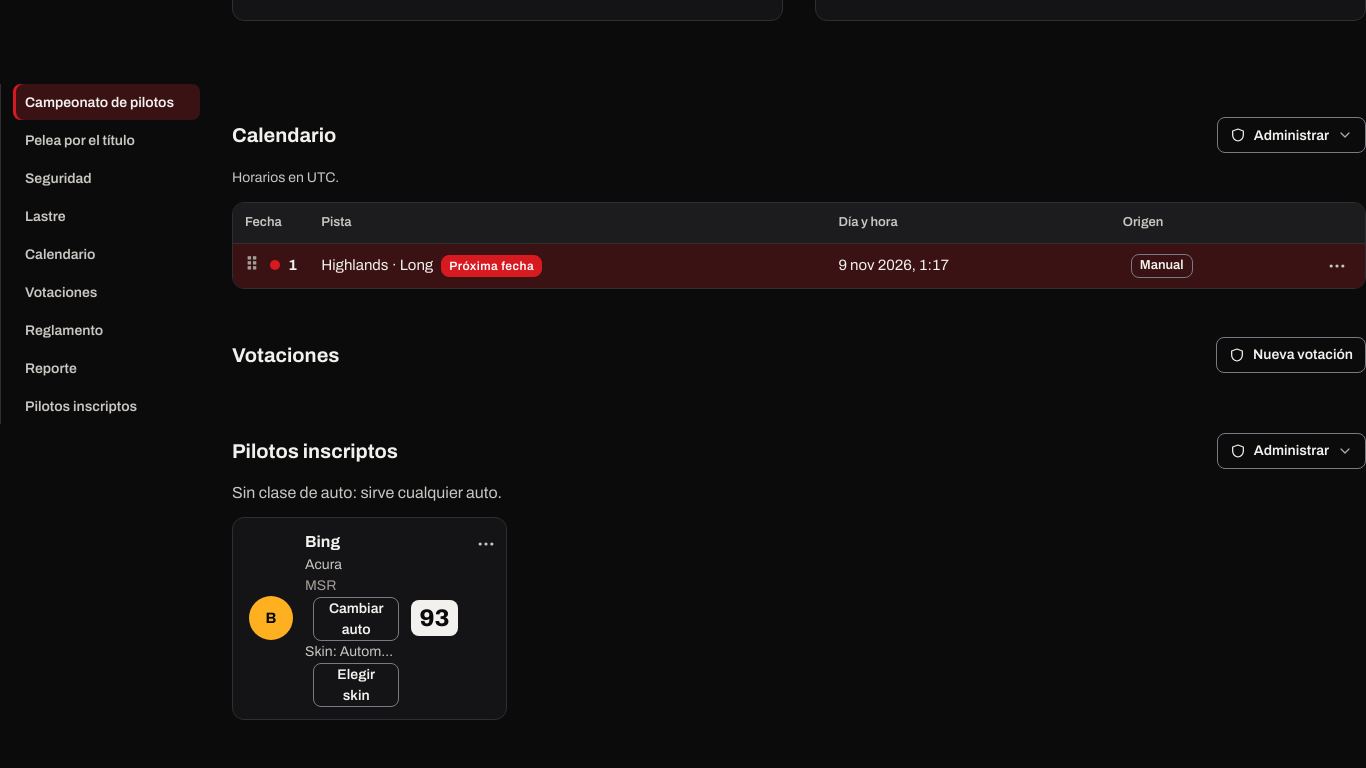
Test: SeasonPage › shows the API error when a number is taken
(page scrolled)
Click the 2nd button "Administrar" at (1291, 451), box 1217,433 -> 1365,469
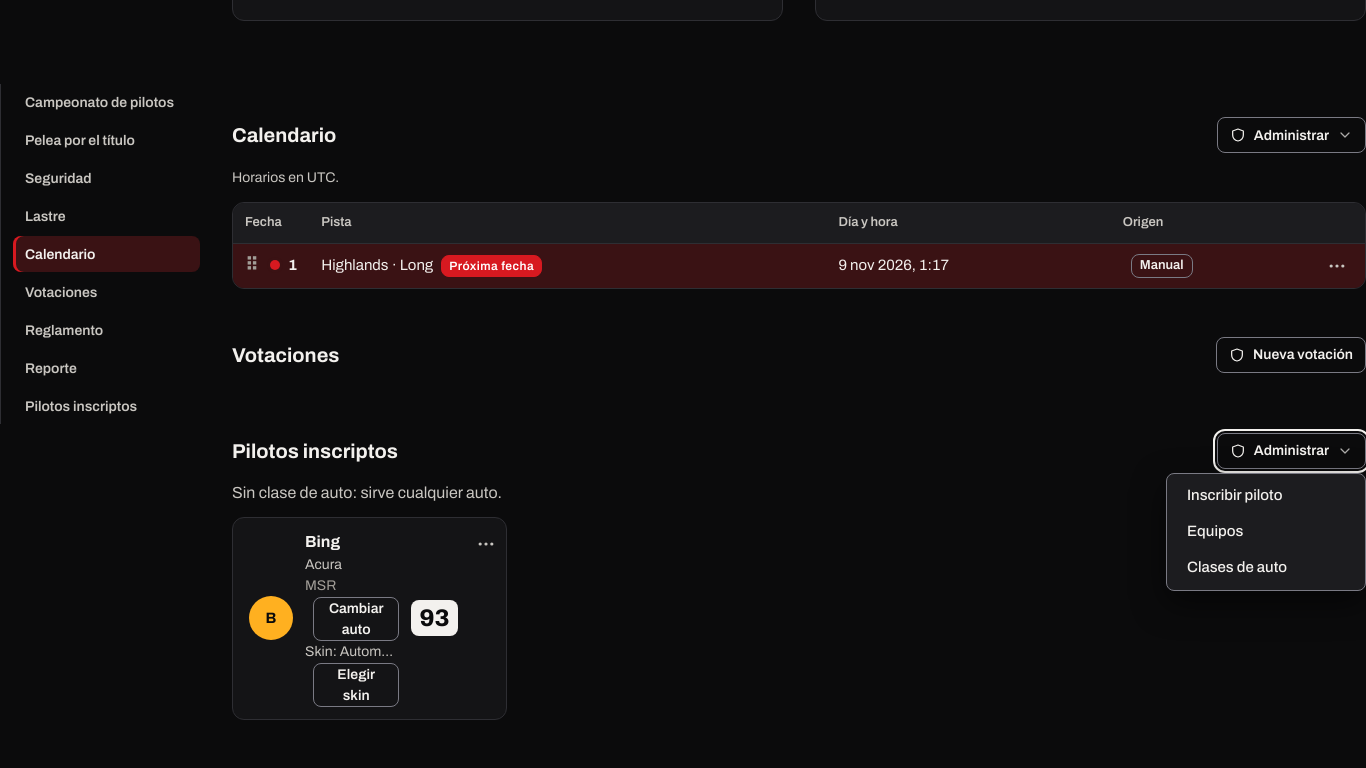
Click the button "Inscribir piloto" at (1266, 496), box 1171,478 -> 1361,514
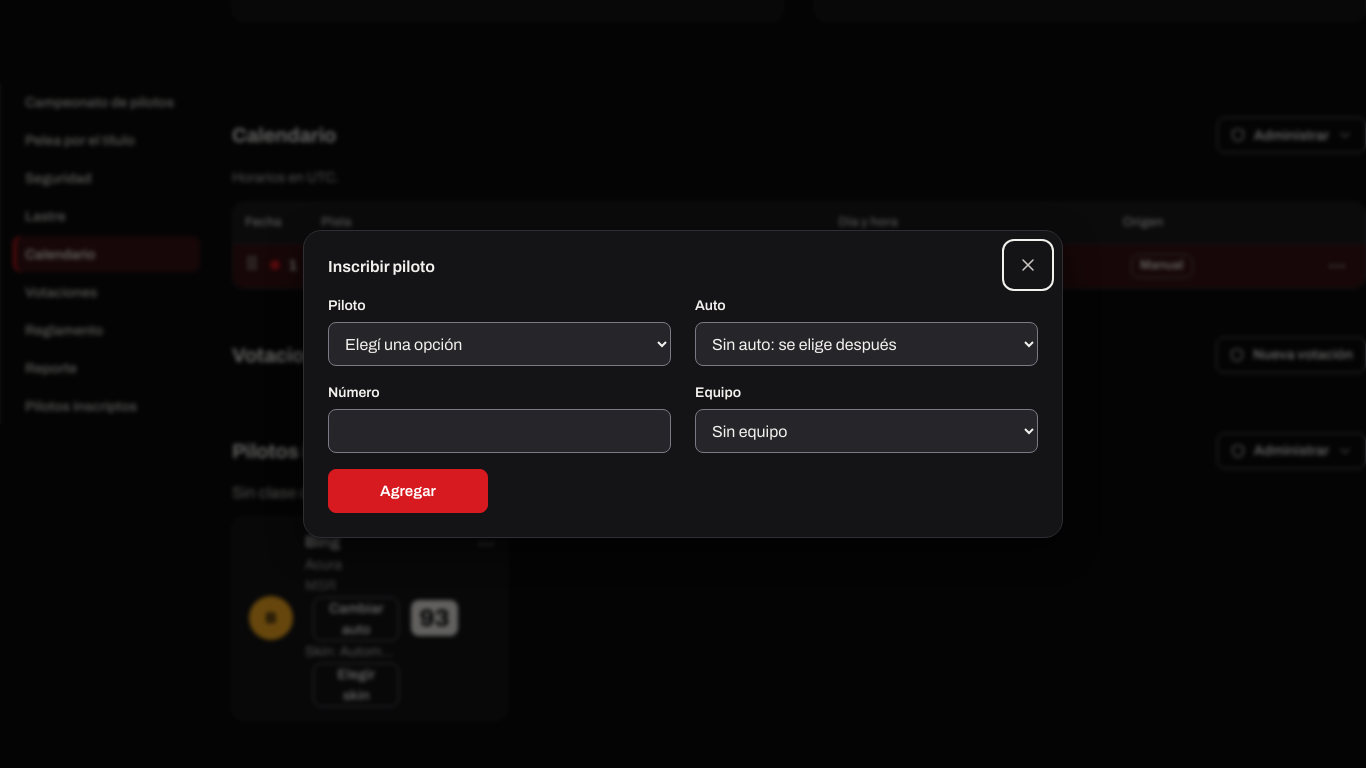
Select "Bing" in the dropdown labelled "Piloto" at (500, 344), box 328,322 -> 671,366
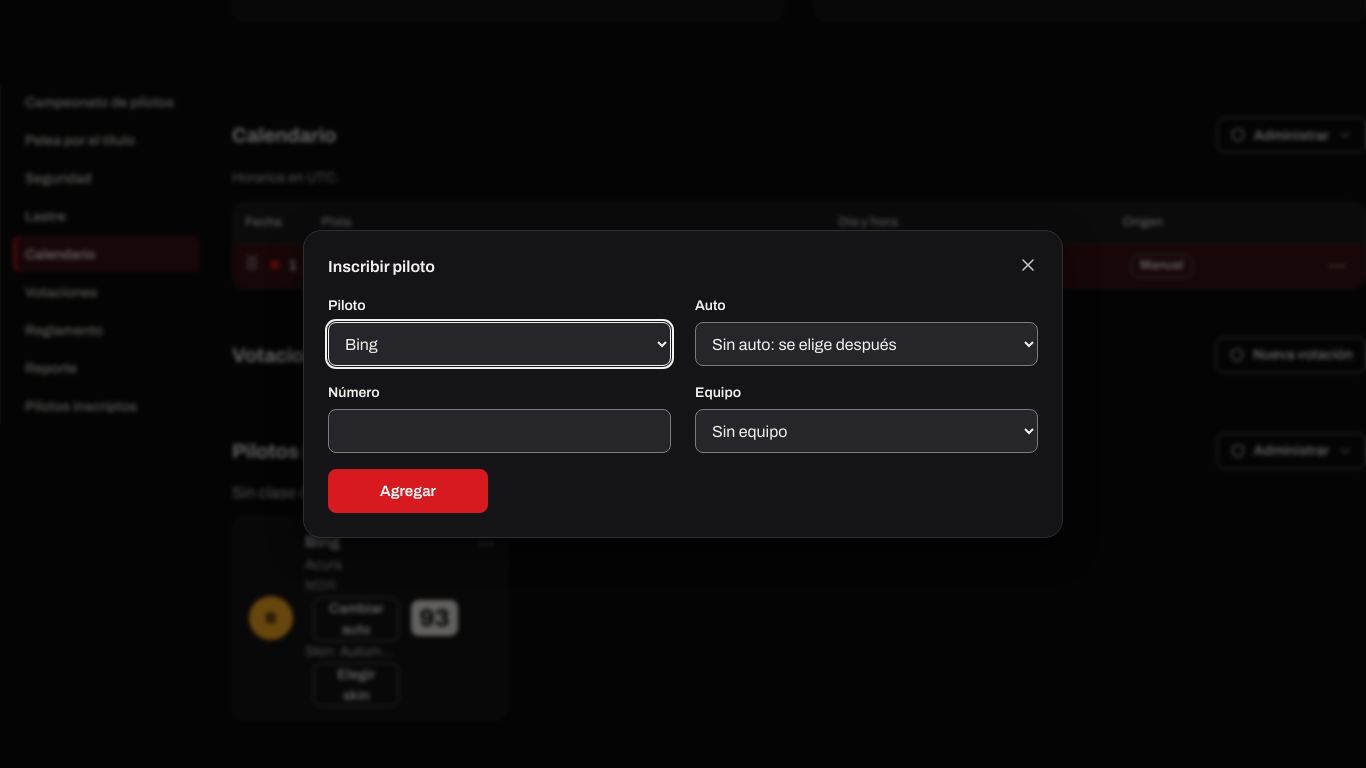
Select "Acura" in the dropdown labelled "Auto" at (866, 344), box 695,322 -> 1038,366
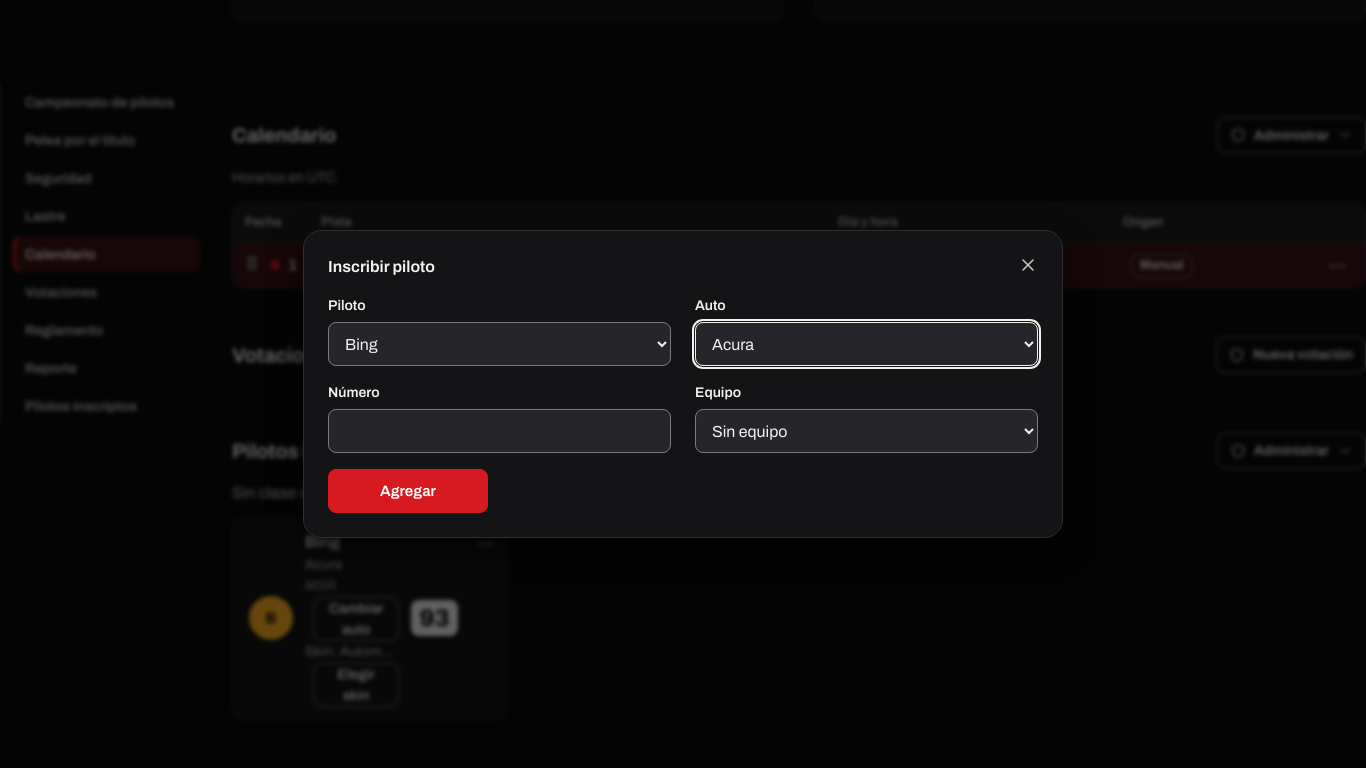
Type "93" into the number field labelled "Número" at (500, 431), box 328,409 -> 671,453
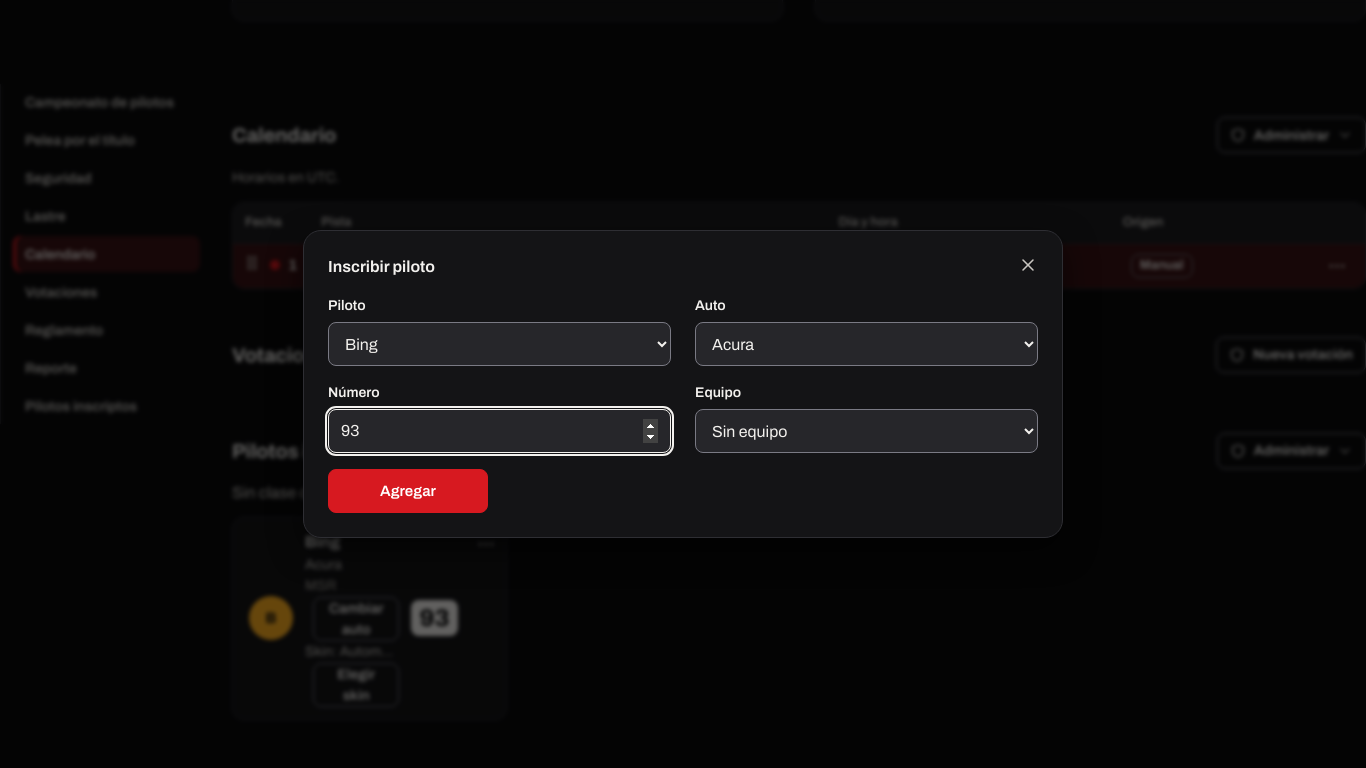
Click the button "Agregar" at (408, 491), box 328,469 -> 488,513
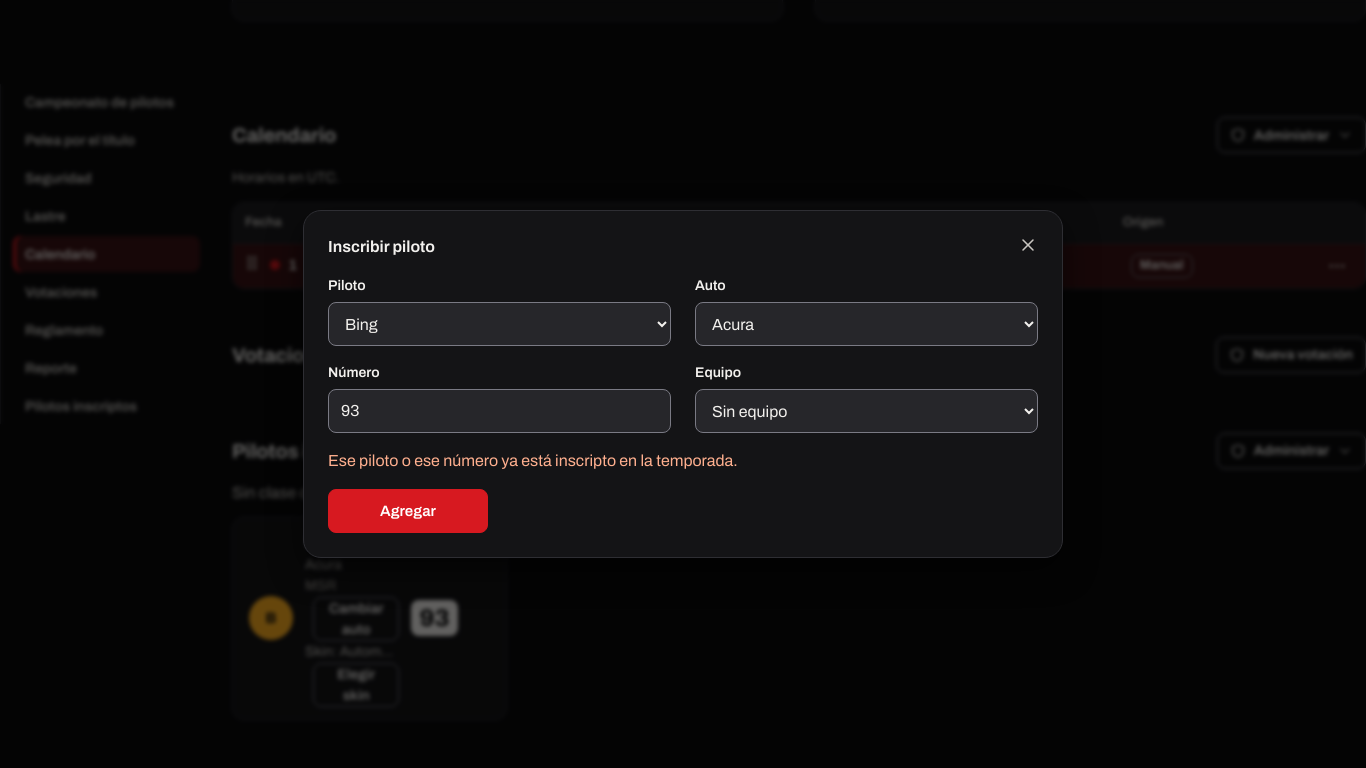
Expected: the message reads "Ese piloto o ese número ya está inscripto en la temporada.", 328,452 -> 738,469
